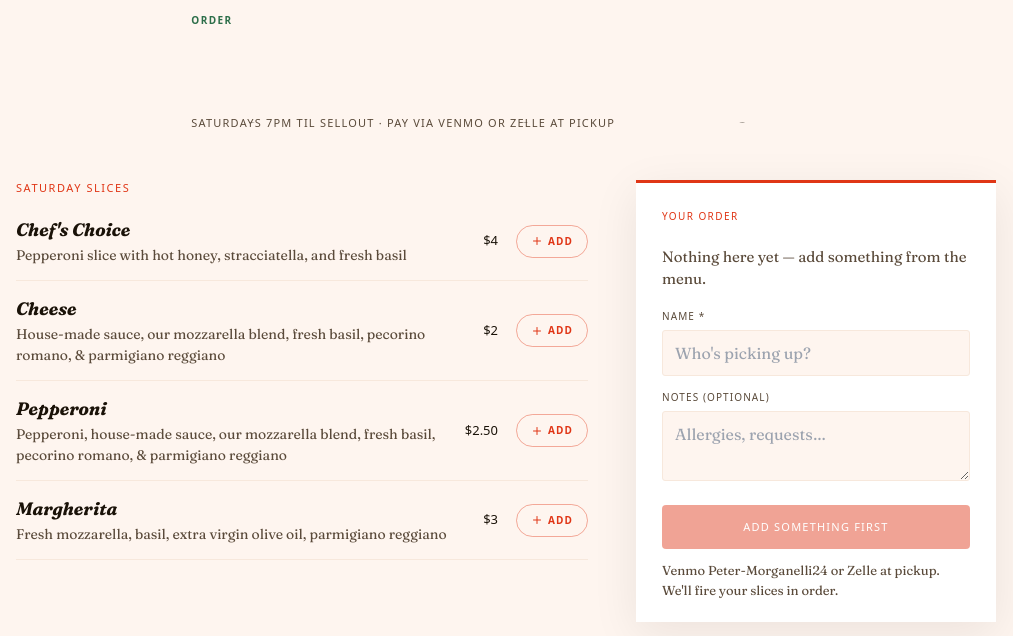
it: OrderPage › add-on chips › numbers the units once there is more than one slice
Expected: the text "Chef's Choice" is shown, [16,218,130,241]
Click the button "Add" next to "$4".
click(552, 241)  # box [516,224,588,258]
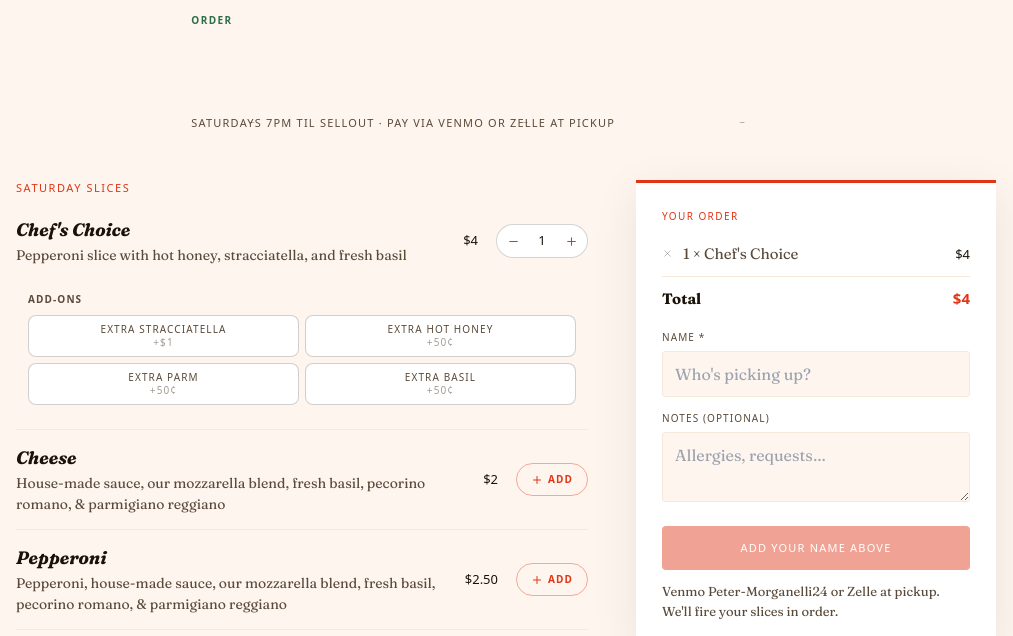
Expected: the text "Add-ons" is shown, [28,292,82,306]
Click the button named "Add one".
click(571, 241)  # box [555,225,587,257]
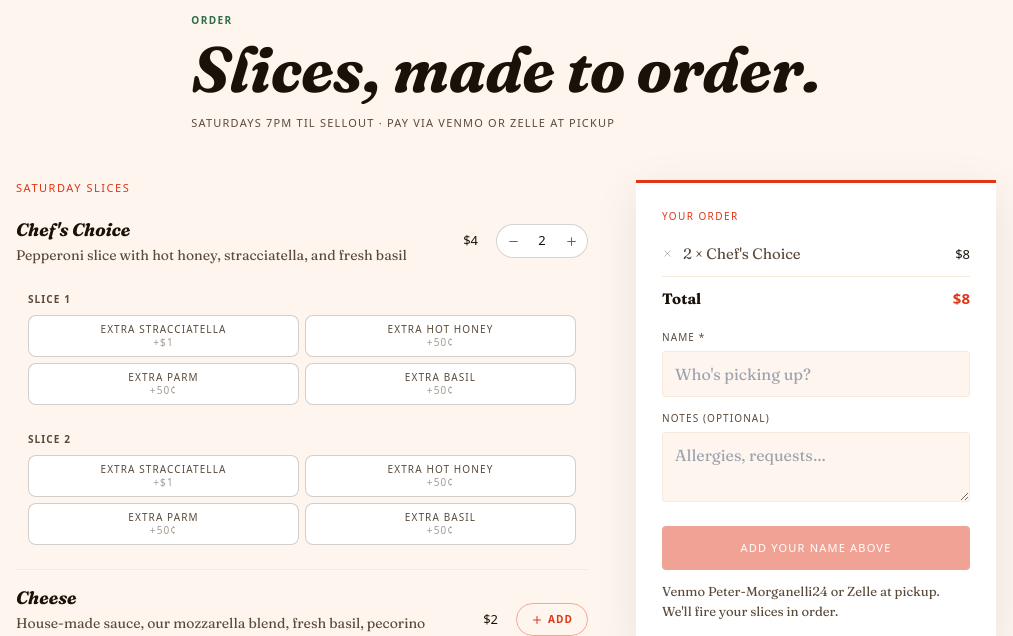
Expected: the text "Slice 1" is shown, [28,292,71,306]
Expected: the text "Slice 2" is shown, [28,432,71,446]
